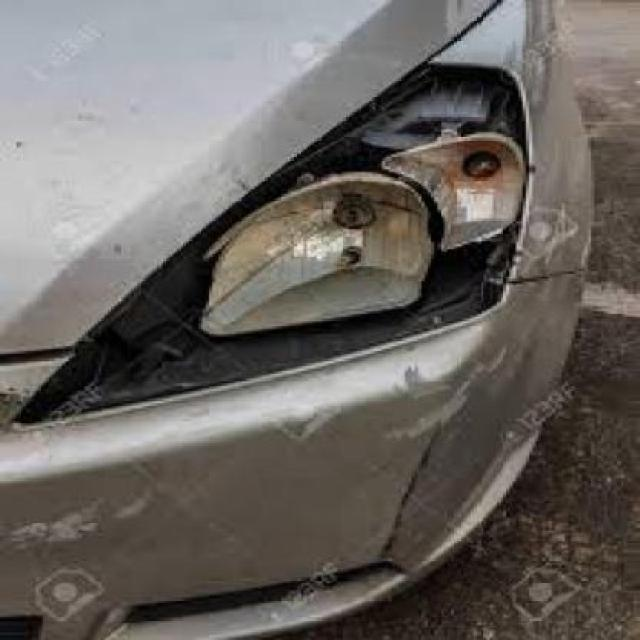Headlight-Damage: (108, 60, 556, 342)
front-bumper-dent: (0, 346, 572, 638)
